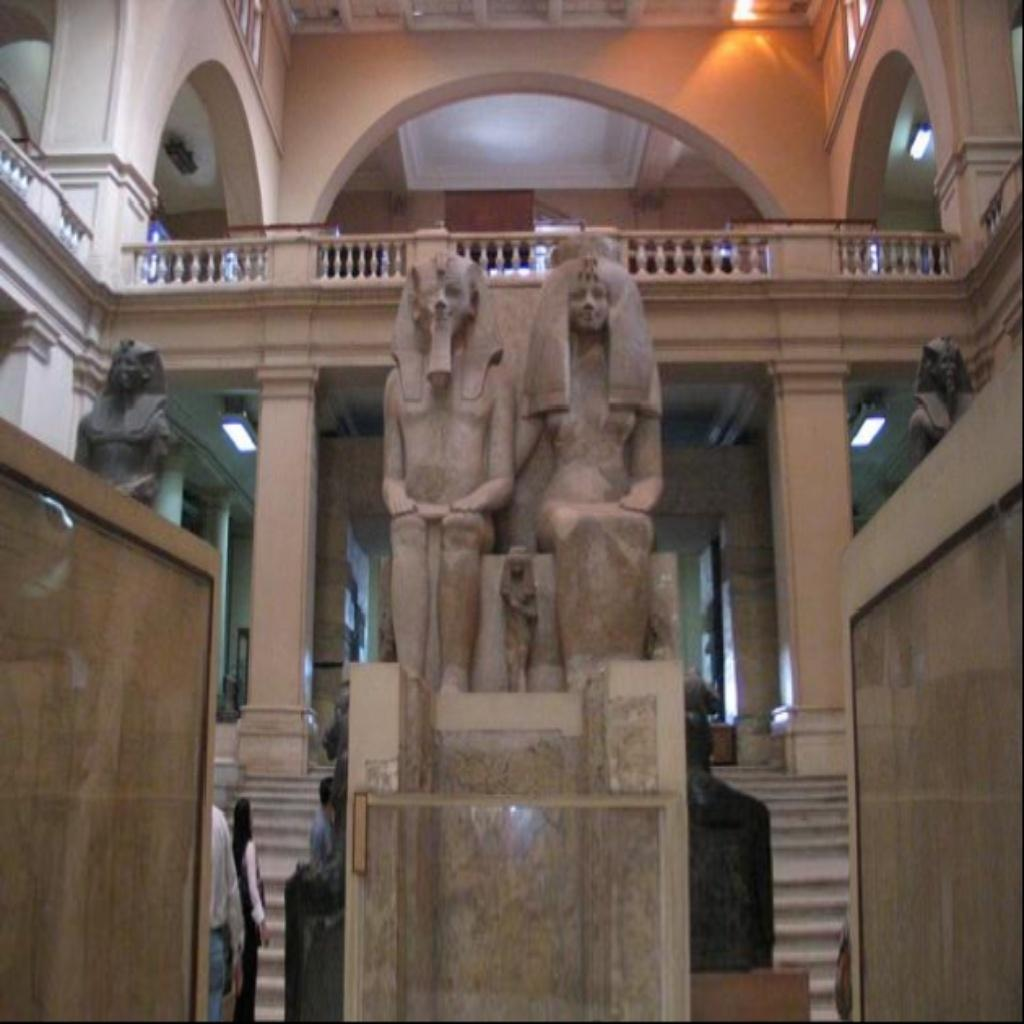Amenhotep III and Tiye: (378, 251, 680, 693)
